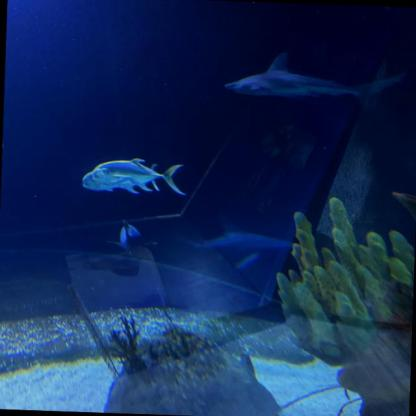fish: (94, 157, 185, 193), (76, 160, 156, 196), (111, 222, 152, 260)
shark: (219, 50, 408, 102), (181, 221, 307, 278)
